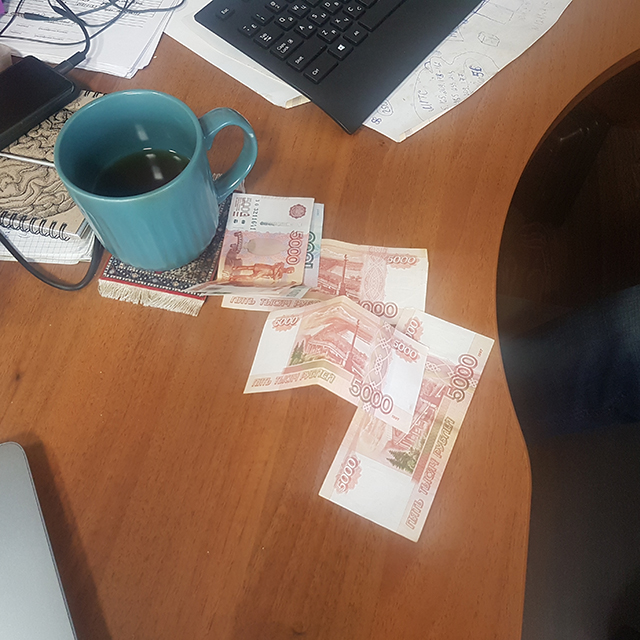banknotes: (319, 310, 495, 545), (242, 312, 424, 429), (192, 191, 320, 298), (315, 249, 431, 319)
